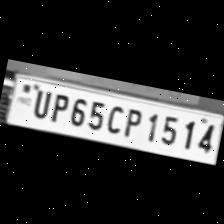1: (139, 106, 162, 142), (176, 114, 199, 150)
4: (192, 116, 219, 154)
5: (154, 109, 182, 147), (83, 95, 108, 131)
6: (66, 93, 90, 128)
C: (101, 100, 125, 135)
P: (118, 103, 144, 139), (46, 89, 71, 124)
U: (27, 83, 53, 119)
